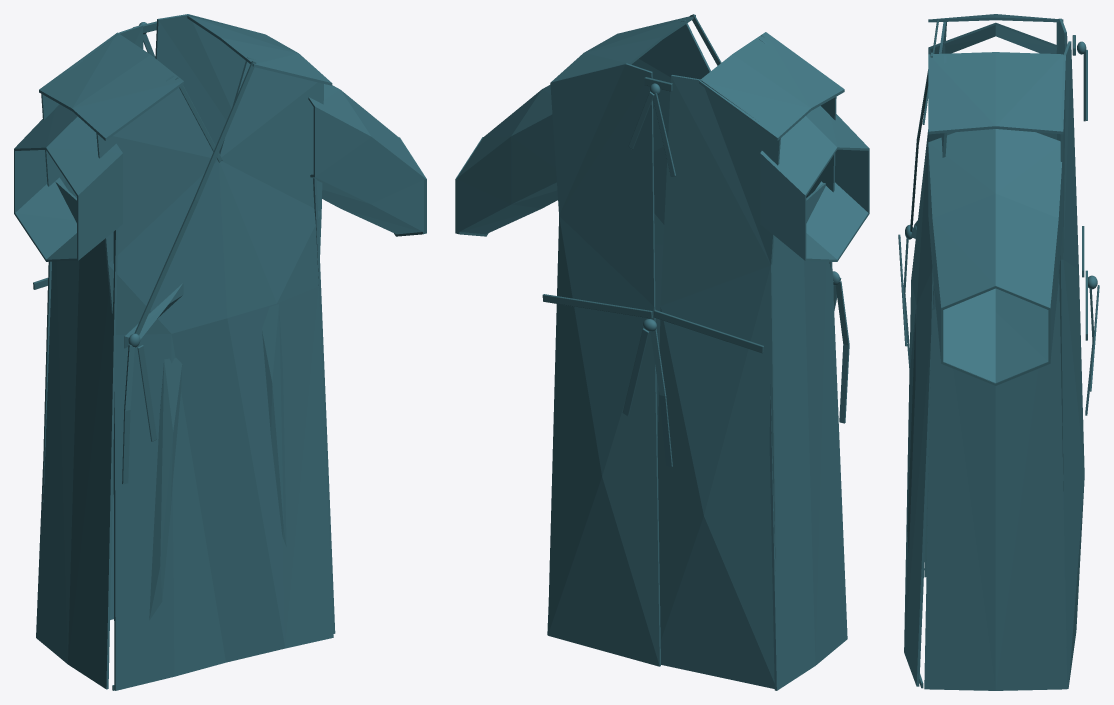
Rendered from asset.fbx.
The picture shows the model from 3 angles, left to right: view 1: azimuth 30°, elevation 25°; view 2: azimuth 150°, elevation 25°; view 3: azimuth 270°, elevation 25°; orthographic projection.
Visible parts, largest first — view 1: emergency_patient_wrap_gown_front_v_neck_body, emergency_patient_wrap_gown_right_body_side, emergency_patient_wrap_gown_right_cut_open_treatment_sleeve, emergency_patient_wrap_gown_left_elbow_length_open_sleeve, emergency_patient_wrap_gown_right_shoulder_bridge, emergency_patient_wrap_gown_back_left_panel, emergency_patient_wrap_gown_front_skirt_soft_fold_right, emergency_patient_wrap_gown_front_skirt_soft_fold_left, emergency_patient_wrap_gown_left_shoulder_bridge, emergency_patient_wrap_gown_back_right_panel, emergency_patient_wrap_gown_wrap_diagonal_front_binding, emergency_patient_wrap_gown_left_body_side (+3 smaller); view 2: emergency_patient_wrap_gown_back_right_panel, emergency_patient_wrap_gown_back_left_panel, emergency_patient_wrap_gown_right_body_side, emergency_patient_wrap_gown_right_cut_open_treatment_sleeve, emergency_patient_wrap_gown_left_elbow_length_open_sleeve, emergency_patient_wrap_gown_right_shoulder_bridge, emergency_patient_wrap_gown_front_v_neck_body, emergency_patient_wrap_gown_left_shoulder_bridge, emergency_patient_wrap_gown_back_waist_tie_tail_right, emergency_patient_wrap_gown_side_tie_hanging_long, emergency_patient_wrap_gown_back_waist_strap_right, emergency_patient_wrap_gown_back_waist_strap_left (+1 smaller); view 3: emergency_patient_wrap_gown_left_body_side, emergency_patient_wrap_gown_left_elbow_length_open_sleeve, emergency_patient_wrap_gown_left_shoulder_bridge, emergency_patient_wrap_gown_back_left_panel, emergency_patient_wrap_gown_front_v_neck_body, emergency_patient_wrap_gown_right_cut_open_treatment_sleeve, emergency_patient_wrap_gown_front_skirt_soft_fold_left, emergency_patient_wrap_gown_left_sleeve_clean_hem, emergency_patient_wrap_gown_back_right_panel, emergency_patient_wrap_gown_right_shoulder_bridge, emergency_patient_wrap_gown_wrap_diagonal_front_binding, emergency_patient_wrap_gown_side_tie_hanging_long (+1 smaller).
Part boxes in pixels (x1,y1,x2,y2): emergency_patient_wrap_gown_front_v_neck_body: (96,57,333,690); emergency_patient_wrap_gown_right_body_side: (36,181,118,689); emergency_patient_wrap_gown_right_cut_open_treatment_sleeve: (14,104,122,261); emergency_patient_wrap_gown_left_elbow_length_open_sleeve: (308,84,425,234); emergency_patient_wrap_gown_right_shoulder_bridge: (39,32,183,140); emergency_patient_wrap_gown_back_left_panel: (155,14,261,152); emergency_patient_wrap_gown_front_skirt_soft_fold_right: (149,358,182,620); emergency_patient_wrap_gown_front_skirt_soft_fold_left: (262,304,286,546); emergency_patient_wrap_gown_left_shoulder_bridge: (187,15,332,85); emergency_patient_wrap_gown_back_right_panel: (41,25,143,619); emergency_patient_wrap_gown_wrap_diagonal_front_binding: (134,61,256,335); emergency_patient_wrap_gown_left_body_side: (313,178,335,633); emergency_patient_wrap_gown_back_right_panel: (657,75,780,688); emergency_patient_wrap_gown_back_left_panel: (547,63,660,666); emergency_patient_wrap_gown_right_body_side: (769,183,847,690); emergency_patient_wrap_gown_right_cut_open_treatment_sleeve: (760,106,869,261); emergency_patient_wrap_gown_left_elbow_length_open_sleeve: (456,85,557,234); emergency_patient_wrap_gown_right_shoulder_bridge: (699,32,844,140); emergency_patient_wrap_gown_front_v_neck_body: (631,20,836,437); emergency_patient_wrap_gown_left_shoulder_bridge: (551,15,695,82); emergency_patient_wrap_gown_back_waist_tie_tail_right: (650,328,672,466); emergency_patient_wrap_gown_side_tie_hanging_long: (835,281,849,423); emergency_patient_wrap_gown_back_waist_strap_right: (653,310,763,353); emergency_patient_wrap_gown_back_waist_strap_left: (542,294,652,318); emergency_patient_wrap_gown_left_body_side: (924,269,1067,690); emergency_patient_wrap_gown_left_elbow_length_open_sleeve: (928,129,1062,383); emergency_patient_wrap_gown_left_shoulder_bridge: (928,52,1063,134); emergency_patient_wrap_gown_back_left_panel: (1060,41,1084,688); emergency_patient_wrap_gown_front_v_neck_body: (904,18,946,686); emergency_patient_wrap_gown_right_cut_open_treatment_sleeve: (928,22,1057,54); emergency_patient_wrap_gown_front_skirt_soft_fold_left: (907,306,915,552); emergency_patient_wrap_gown_left_sleeve_clean_hem: (941,286,1050,385); emergency_patient_wrap_gown_back_right_panel: (1056,18,1067,490); emergency_patient_wrap_gown_right_shoulder_bridge: (928,14,1063,22); emergency_patient_wrap_gown_wrap_diagonal_front_binding: (910,52,932,231); emergency_patient_wrap_gown_side_tie_hanging_long: (903,238,909,367).
Bounding box in the file's own units: 0.72 × 1.15 × 0.35.
